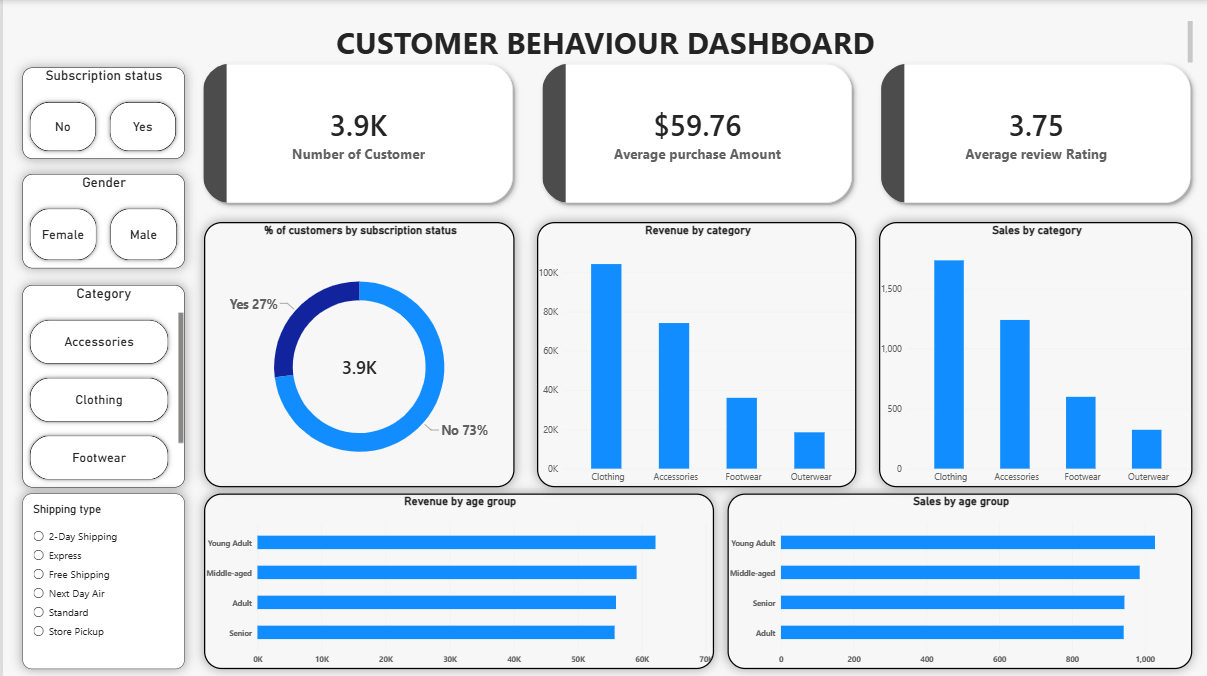

This screenshot's page, from the dashboard's own definition file:
{"tool":"powerbi","page":{"name":"Page 1","canvas":[1920,1080],"ordinal":0},"visuals":[{"type":"cardVisual","fields":{"Data":["customer_behavior customer.Number of Customer","customer_behavior customer.Average purchase Amount","customer_behavior customer.Average review Rating"]},"box":[288.7,71.6,1632,281.5],"z":0},{"type":"textbox","box":[31,33.4,1861,74],"z":1000},{"type":"donutChart","title":"% of customers by subscription status","fields":{"Category":["customer_behavior customer.subscription_status"],"Y":["CountNonNull(customer_behavior customer.customer_id)"]},"box":[319.7,353.1,493.9,422.3],"z":2000},{"type":"clusteredColumnChart","title":"Revenue by category","fields":{"Category":["customer_behavior customer.category"],"Y":["Sum(customer_behavior customer.purchase_amount)"]},"box":[849.4,353.1,508.2,422.3],"z":3000},{"type":"clusteredColumnChart","title":"Sales by category","fields":{"Category":["customer_behavior customer.category"],"Y":["CountNonNull(customer_behavior customer.customer_id)"]},"box":[1393.4,353.1,498.7,422.3],"z":4000},{"type":"advancedSlicerVisual","title":"Subscription status","fields":{"Values":["customer_behavior customer.subscription_status"]},"box":[31,107.4,257.7,145.5],"z":5000},{"type":"advancedSlicerVisual","title":"Gender","fields":{"Values":["customer_behavior customer.gender"]},"box":[31,276.8,258,150],"z":5001},{"type":"advancedSlicerVisual","title":"Category","fields":{"Values":["customer_behavior customer.category"]},"box":[31,453.3,257.7,322.1],"z":5002},{"type":"listSlicer","title":"Shipping type","fields":{"Values":["customer_behavior customer.shipping_type"]},"box":[31,785,257.7,279.2],"z":5003},{"type":"clusteredBarChart","title":"Revenue by age group","fields":{"Category":["customer_behavior customer.age_group"],"Y":["Sum(customer_behavior customer.purchase_amount)"]},"box":[319.7,785,811.2,279.2],"z":5004},{"type":"clusteredBarChart","title":"Sales by age group","fields":{"Category":["customer_behavior customer.age_group"],"Y":["CountNonNull(customer_behavior customer.customer_id)"]},"box":[1152.4,785,739.6,279.2],"z":5005}]}

Visuals, with their boxes in screenshot pixels (x1, y1, x2, y2), scaled from the page's 1920x1080 canvas onto the 1207x676 screenshot:
cardVisual - customer_behavior customer.Number of Customer x customer_behavior customer.Average purchase Amount: locate(181, 45, 1206, 221)
textbox: locate(19, 21, 1189, 67)
"% of customers by subscription status" donutChart: locate(201, 221, 511, 485)
"Revenue by category" clusteredColumnChart: locate(534, 221, 853, 485)
"Sales by category" clusteredColumnChart: locate(876, 221, 1189, 485)
"Subscription status" advancedSlicerVisual: locate(19, 67, 181, 158)
"Gender" advancedSlicerVisual: locate(19, 173, 182, 267)
"Category" advancedSlicerVisual: locate(19, 284, 181, 485)
"Shipping type" listSlicer: locate(19, 491, 181, 666)
"Revenue by age group" clusteredBarChart: locate(201, 491, 711, 666)
"Sales by age group" clusteredBarChart: locate(724, 491, 1189, 666)
